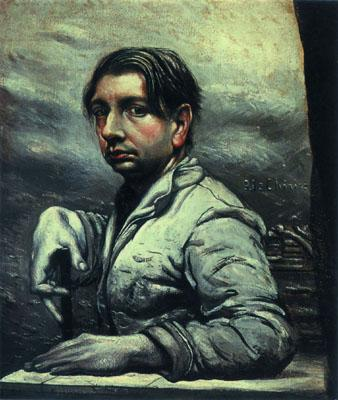person: (31, 44, 290, 387)
